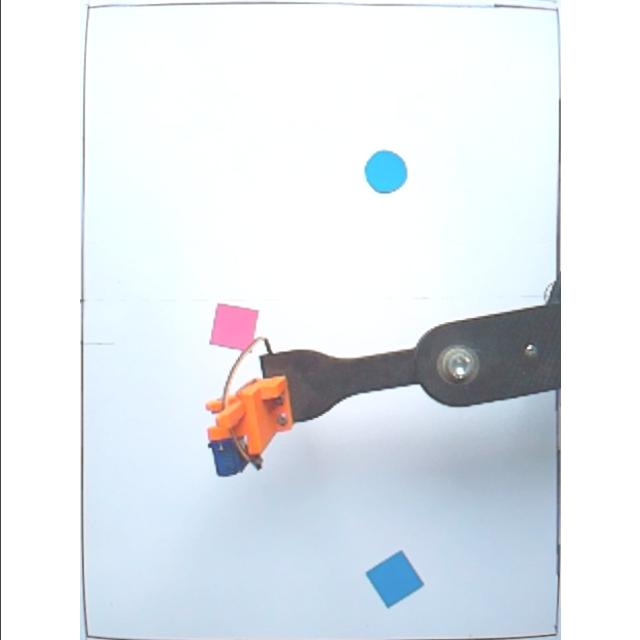blueCircle: (362, 147, 414, 199)
blueSquare: (364, 551, 426, 607)
pinkSquare: (211, 301, 259, 354)
